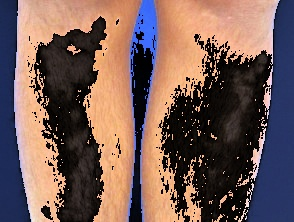vitiligo: (131, 0, 285, 222), (13, 0, 144, 222)
